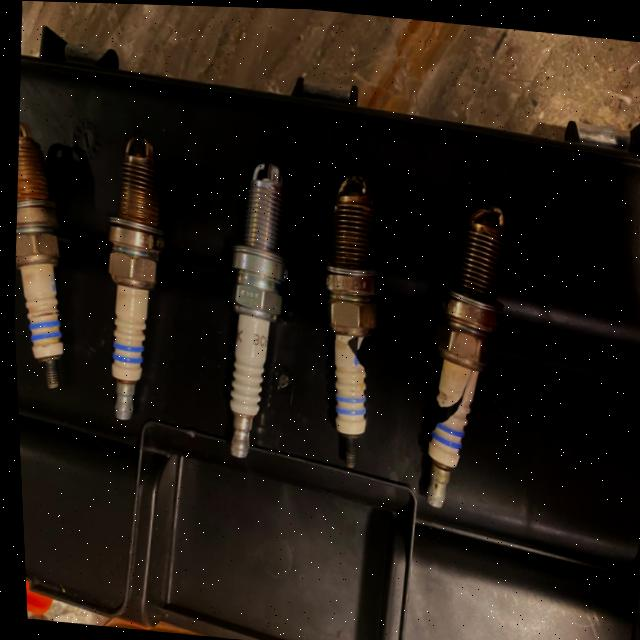damaged_spark-plug: (403, 182, 523, 526), (309, 166, 402, 483)
spark-plug: (204, 139, 305, 489), (78, 129, 176, 474), (4, 111, 93, 409)
